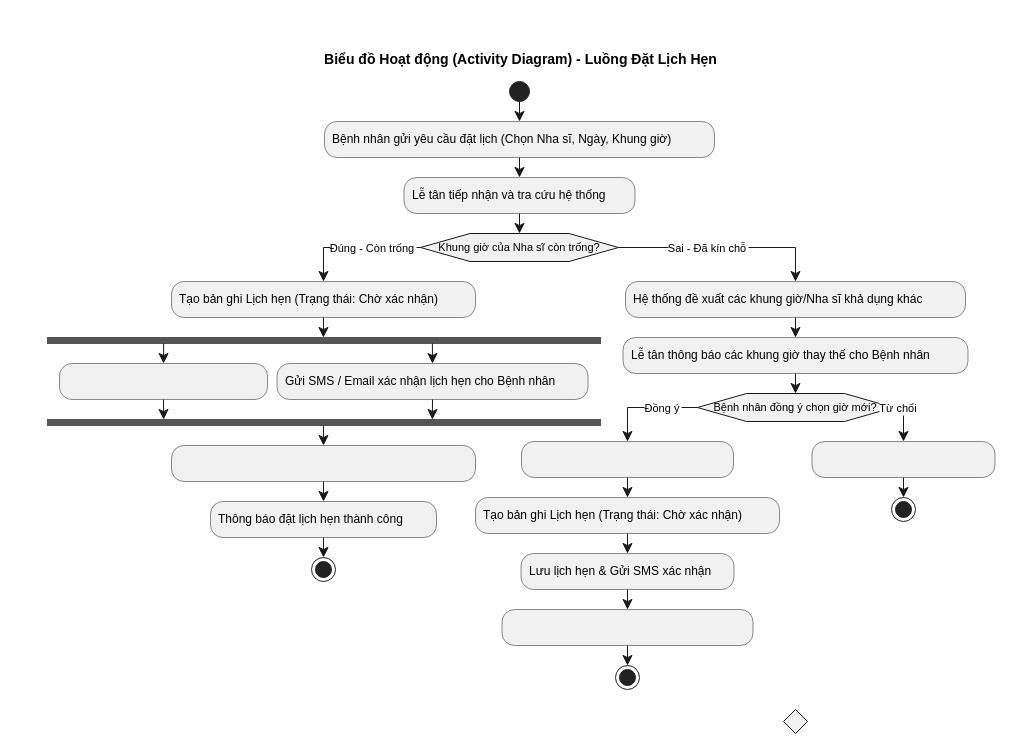
This 1012x751 diagram has some shape labels left out. Each missing label, with the box of its shape:
Cập nhật lựa chọn khung giờ mới: (521, 441, 733, 477)
Cập nhật trạng thái lịch hẹn thành 'Đã xác nhận': (171, 445, 475, 481)
Cập nhật trạng thái thành 'Đã xác nhận': (501, 609, 753, 645)
Hủy bỏ yêu cầu đặt lịch hẹn: (811, 441, 995, 477)
Lưu thông tin lịch hẹn vào CSDL: (59, 363, 267, 399)
